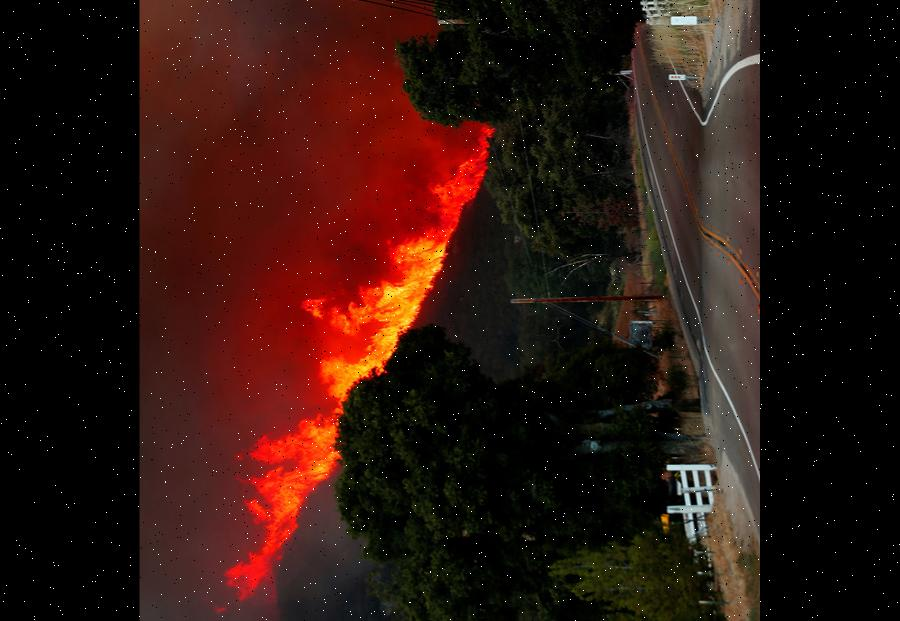fire: (207, 112, 505, 604)
